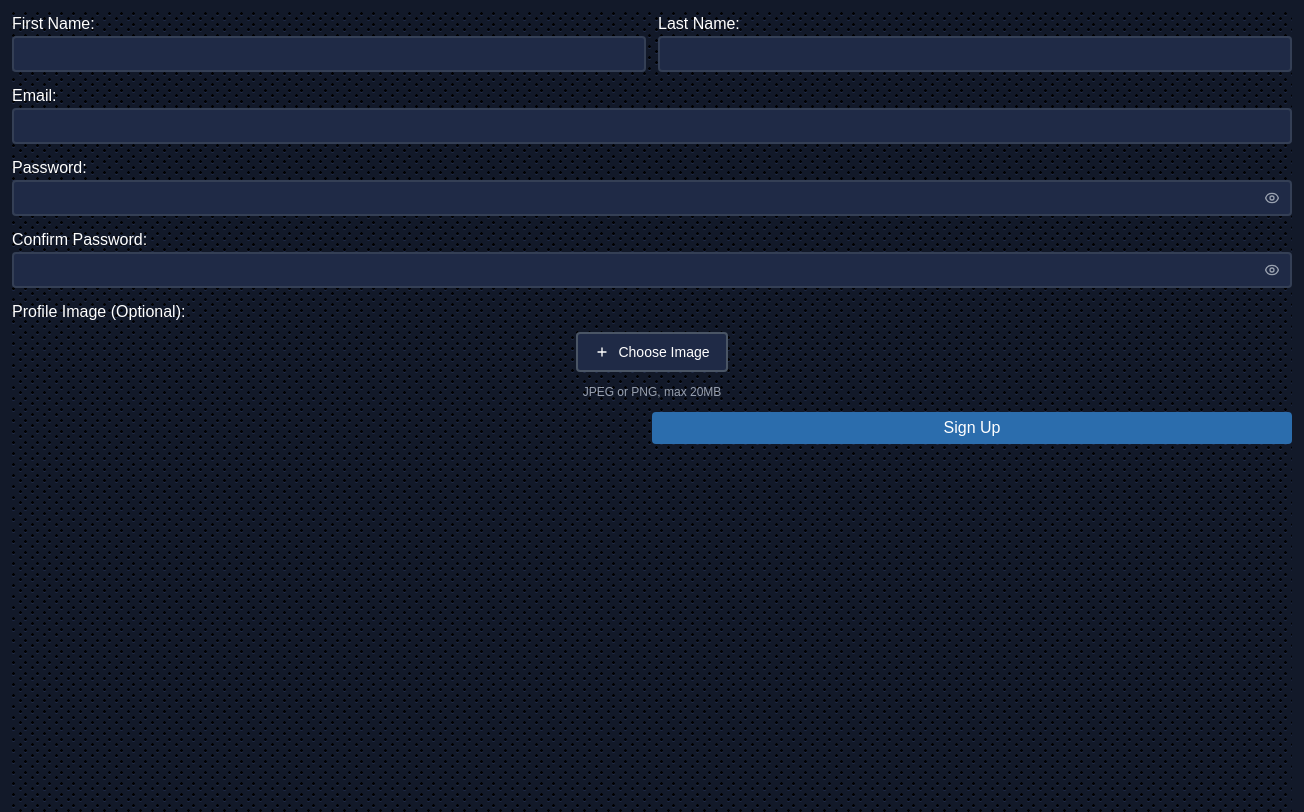
SignUpForm › displays error message on 400 or 409 response
Type "John" into the field labelled "First Name:". click: {"x": 329, "y": 54}
box: left=12, top=36, right=646, bottom=72
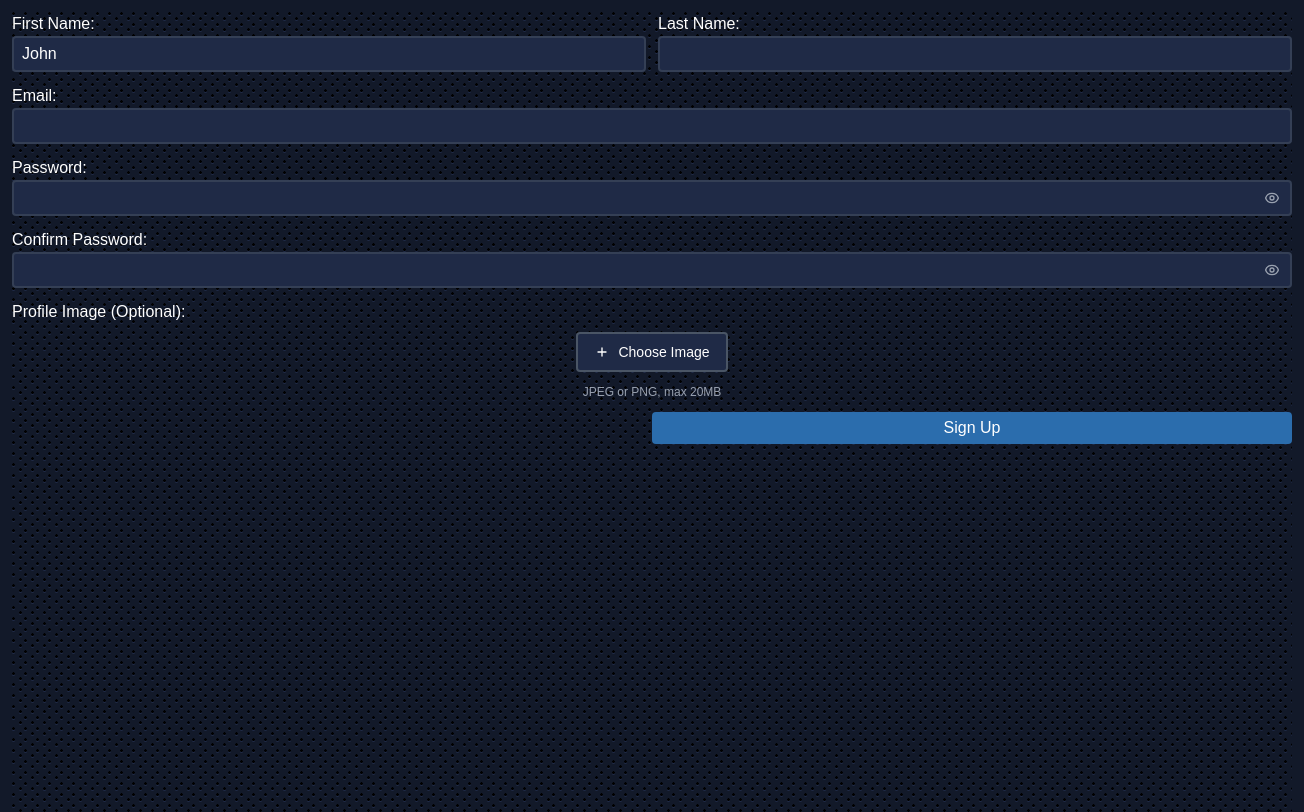
Type "Doe" into the field labelled "Last Name:". click: {"x": 975, "y": 54}
box: left=658, top=36, right=1292, bottom=72
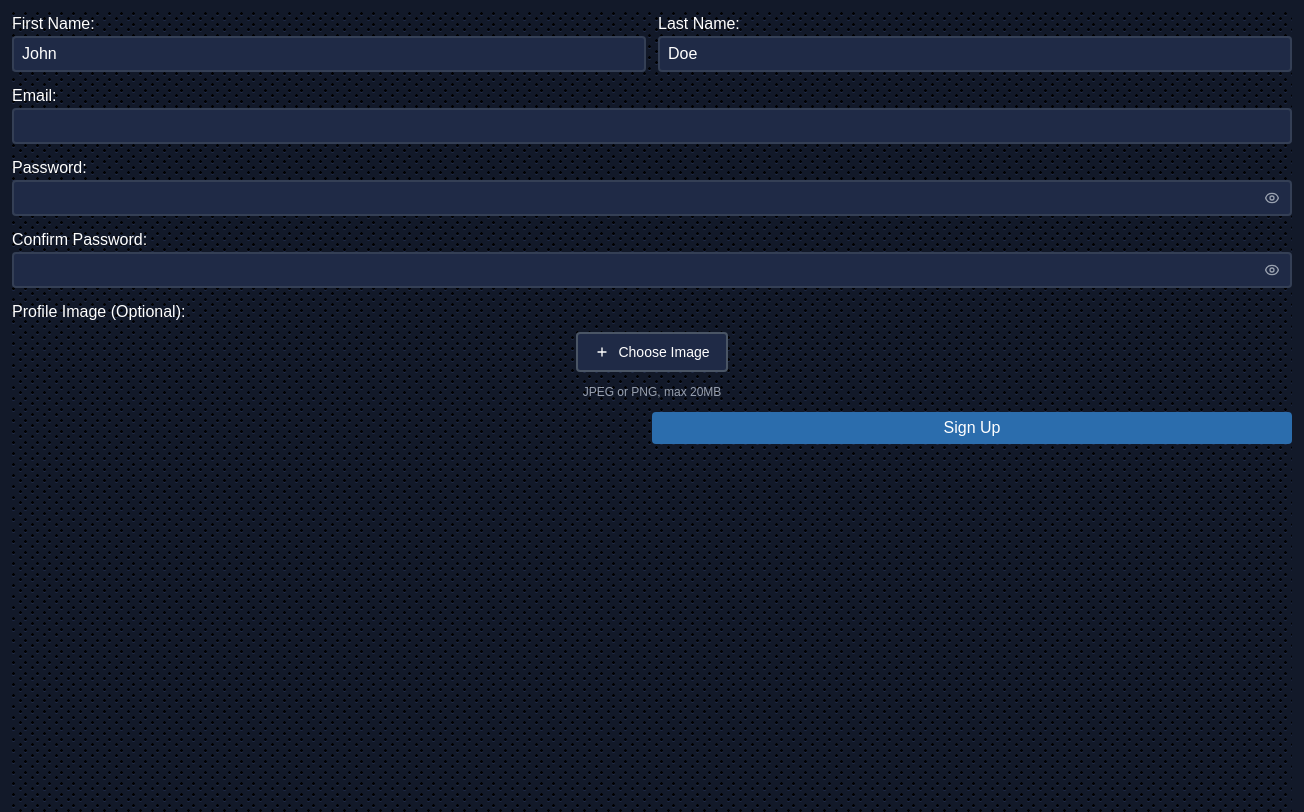
Type "test@example.com" into the field labelled "Email:". click: {"x": 652, "y": 126}
box: left=12, top=108, right=1292, bottom=144
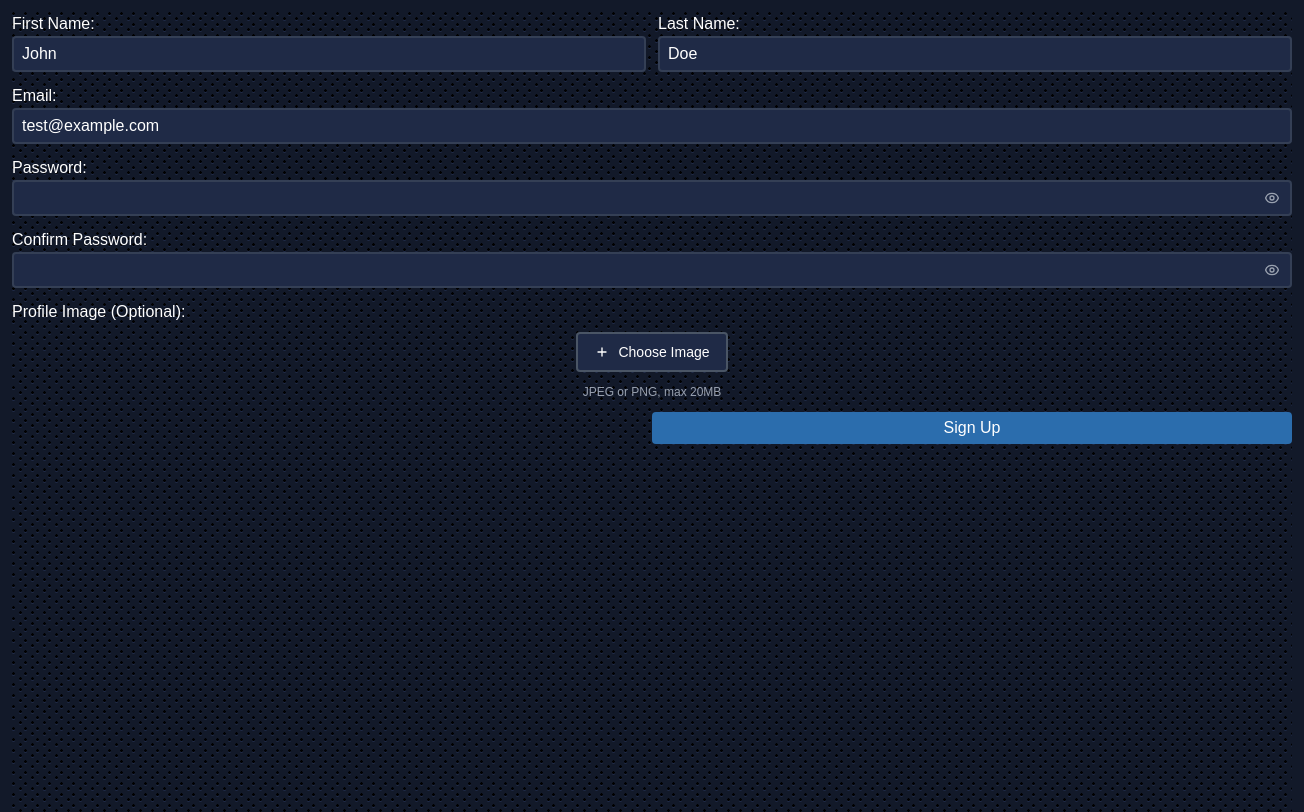
Type "secureP@ss123" into the password field labelled "Password:". click: {"x": 652, "y": 198}
box: left=12, top=180, right=1292, bottom=216
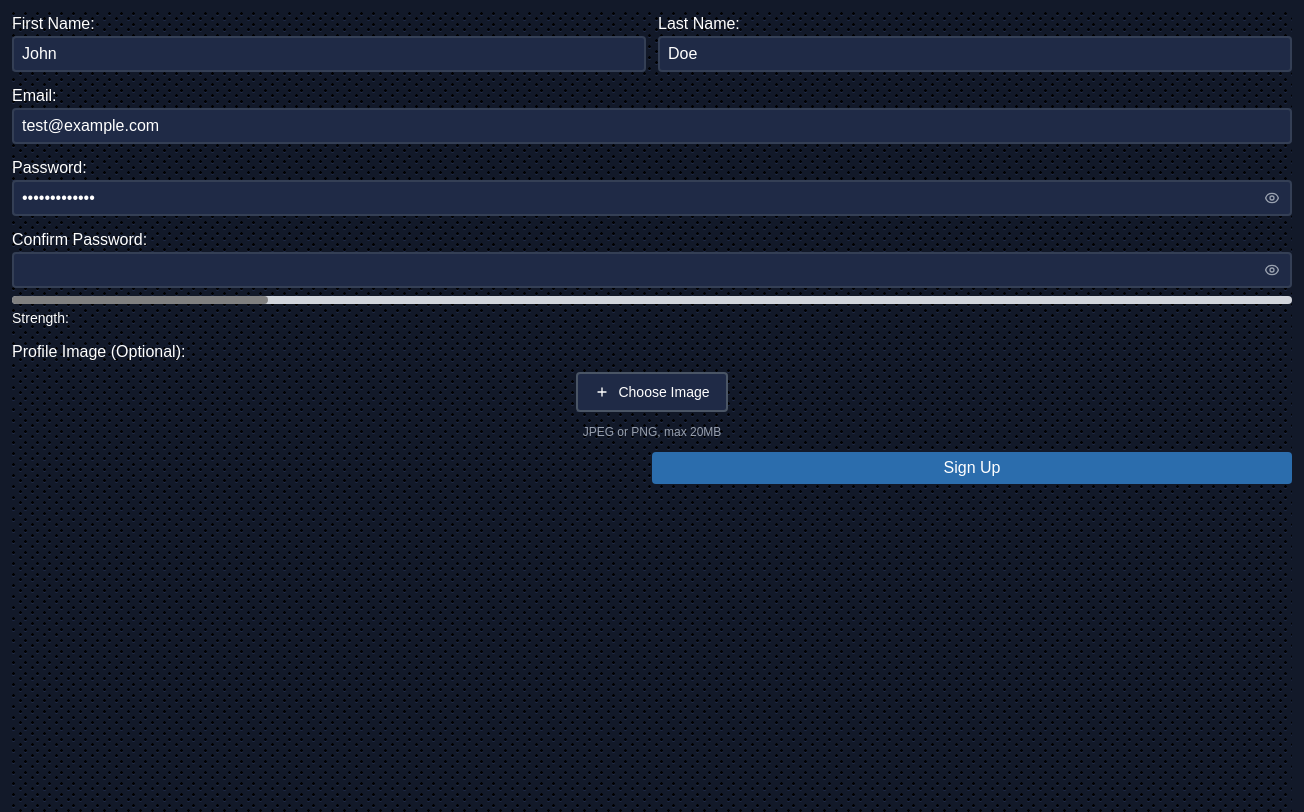
Type "secureP@ss123" into the password field labelled "Confirm Password:". click: {"x": 652, "y": 270}
box: left=12, top=252, right=1292, bottom=288
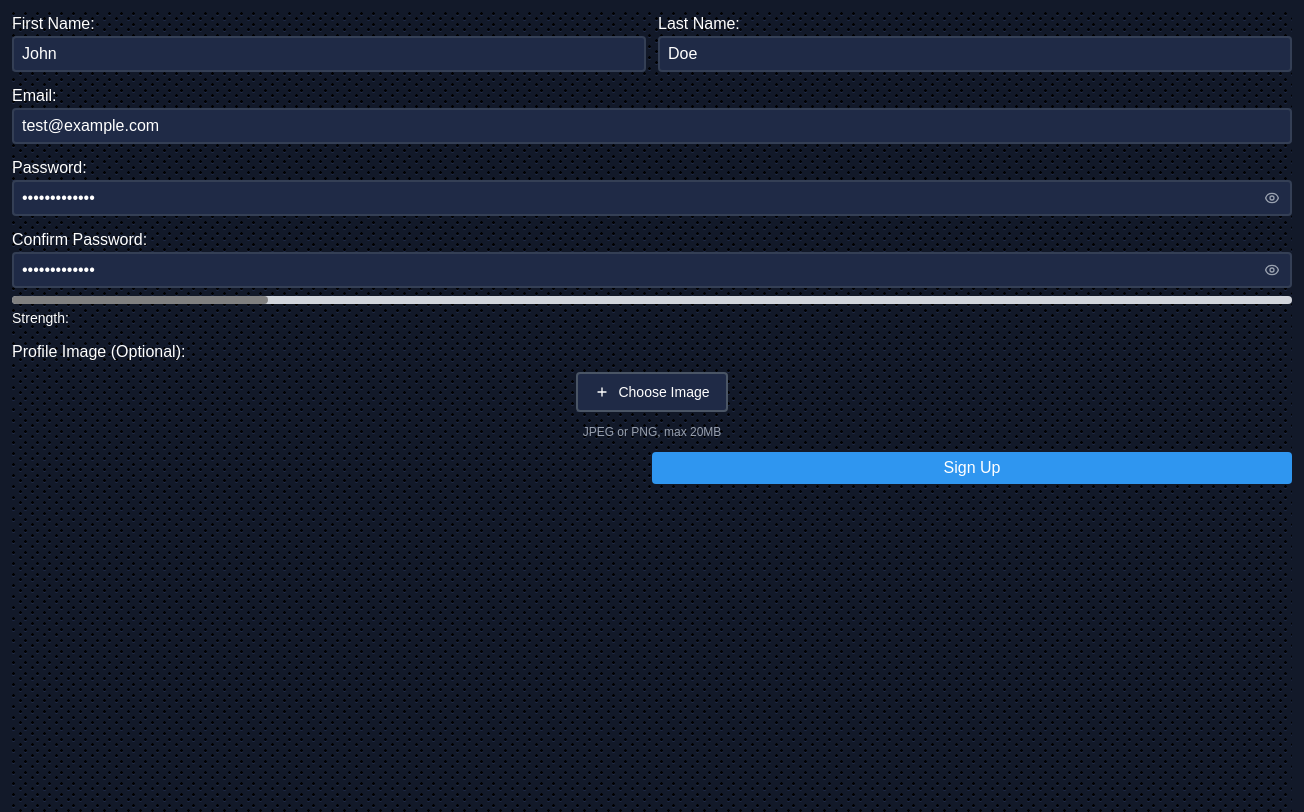
Click the button with aria-label "submit-signup". click: {"x": 972, "y": 468}
box: left=652, top=452, right=1292, bottom=484
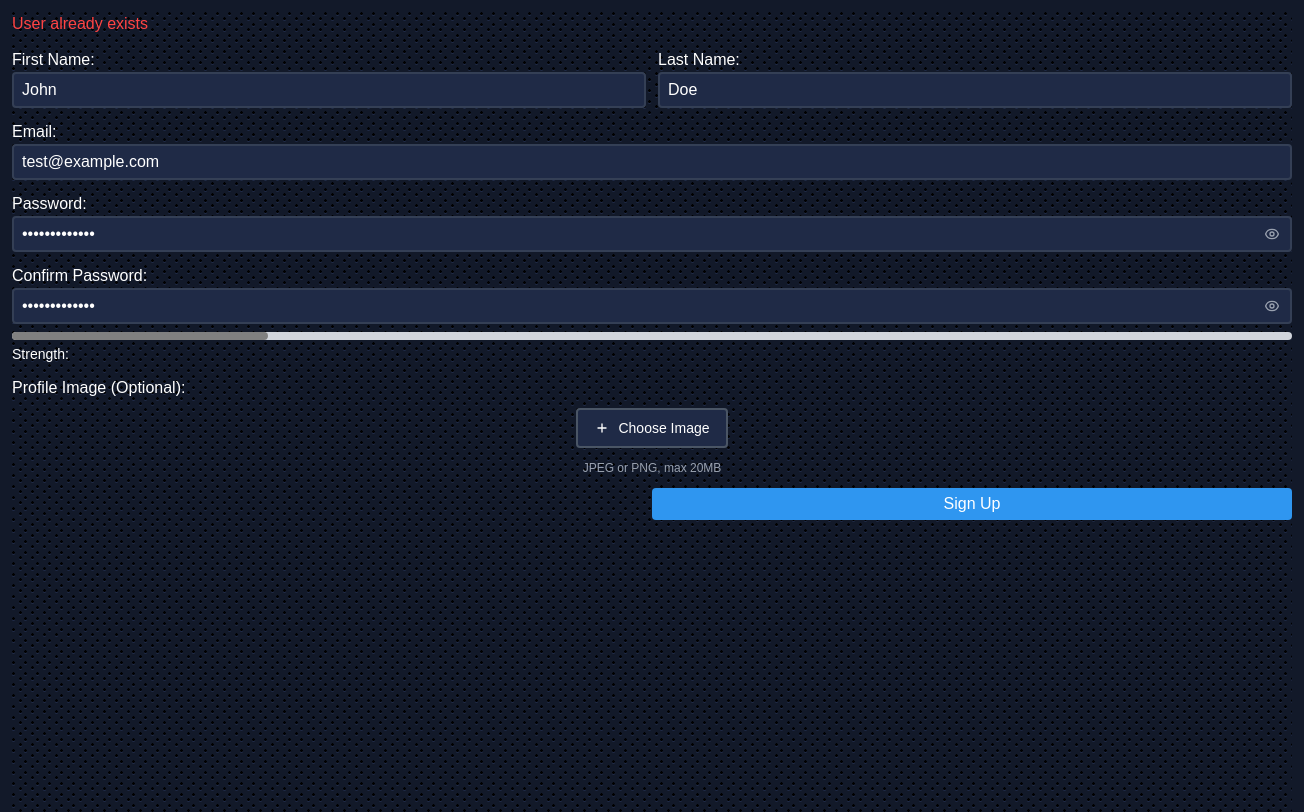
Now the text "User already exists" is shown, box left=12, top=15, right=148, bottom=32
